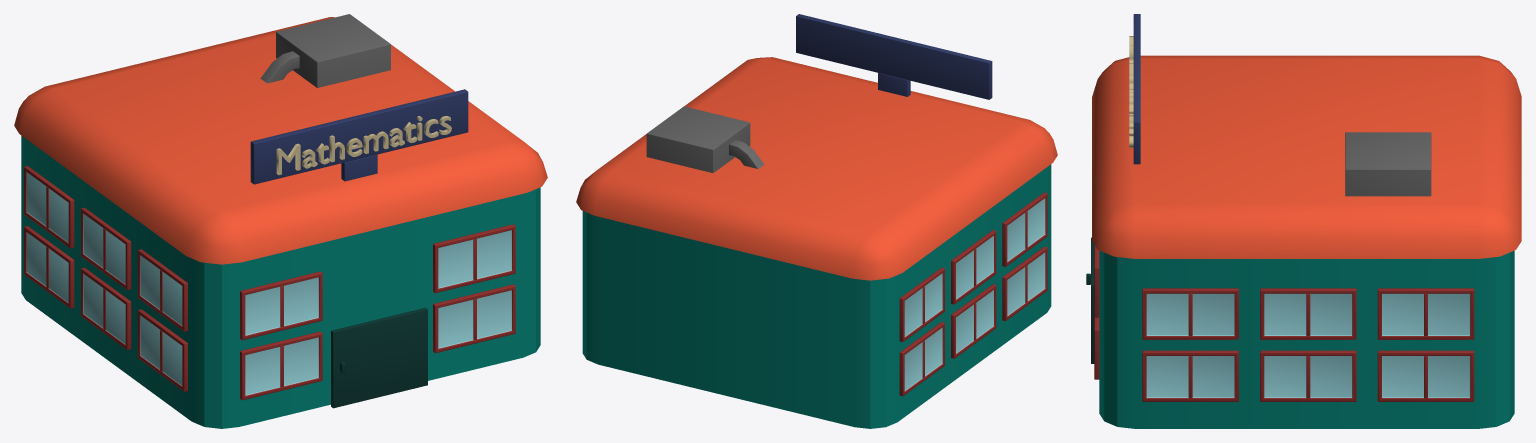
File: Predio_matematica_nivel_01.fbx
3 views of the same model, side by side, from view 1: azimuth 30°, elevation 25°; view 2: azimuth 150°, elevation 25°; view 3: azimuth 270°, elevation 25° (orthographic). The views are drawn at different scales.
Visible parts, largest first — view 1: Predio_matematica_nivel_01, Janelas_predio_01, Texto_Mathematics_nivel_01; view 2: Predio_matematica_nivel_01, Janelas_predio_01; view 3: Predio_matematica_nivel_01, Janelas_predio_01, Texto_Mathematics_nivel_01.
Boxes of the visible parts, x1,y1,x2,y2 form: Predio_matematica_nivel_01: [14, 17, 547, 428]; Janelas_predio_01: [24, 14, 515, 408]; Texto_Mathematics_nivel_01: [276, 116, 451, 175]; Predio_matematica_nivel_01: [576, 57, 1057, 428]; Janelas_predio_01: [646, 14, 1047, 396]; Predio_matematica_nivel_01: [1092, 55, 1521, 428]; Janelas_predio_01: [1086, 14, 1474, 401]; Texto_Mathematics_nivel_01: [1129, 36, 1133, 147].
Size of the model in its own units: 1025 by 725 by 1048.
